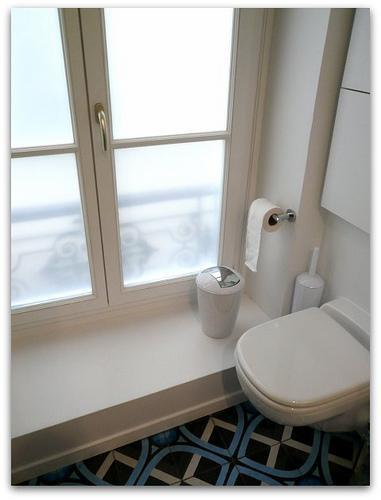Bote de Basura: (196, 261, 249, 341)
Sanitario: (229, 290, 373, 427)
